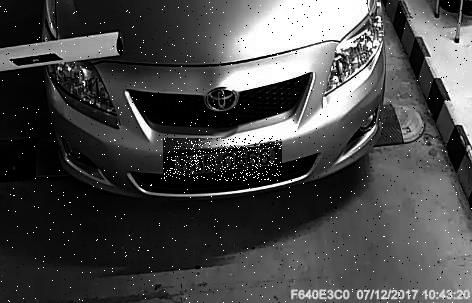License-plate: (164, 139, 283, 182)
